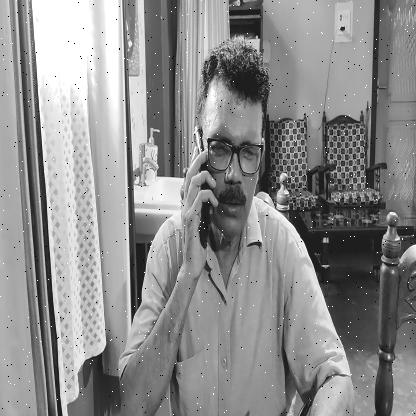Normal: (201, 50, 269, 238)
